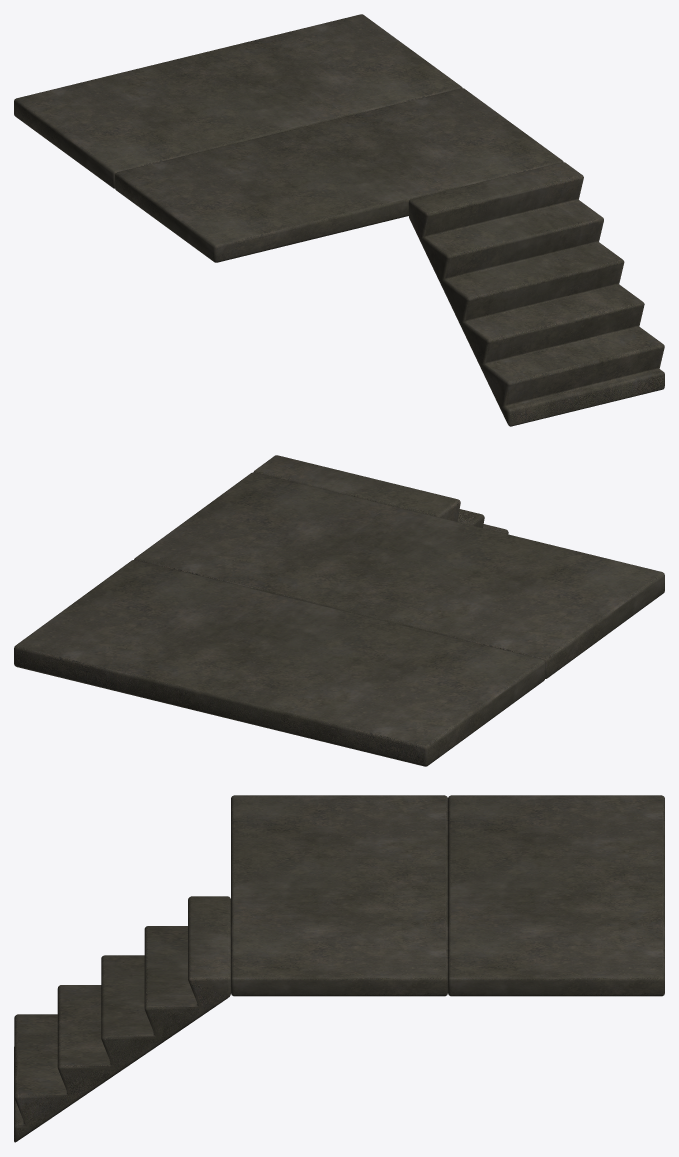
File: stairs_2.glb
The picture shows the model from 3 angles, top to bottom: view 1: azimuth 30°, elevation 25°; view 2: azimuth 150°, elevation 25°; view 3: azimuth 270°, elevation 25°; orthographic projection. The views are drawn at different scales.
Parts seen in each view (by area): view 1: stairs_2; view 2: stairs_2; view 3: stairs_2.
Part boxes in pixels (x1=…): stairs_2: x1=14, y1=14, x2=664, y2=426; stairs_2: x1=14, y1=455, x2=664, y2=766; stairs_2: x1=14, y1=795, x2=664, y2=1142.
Size of the model in its own units: 4 by 1.69 by 6.
Materials: 1 (1 with a texture image).
